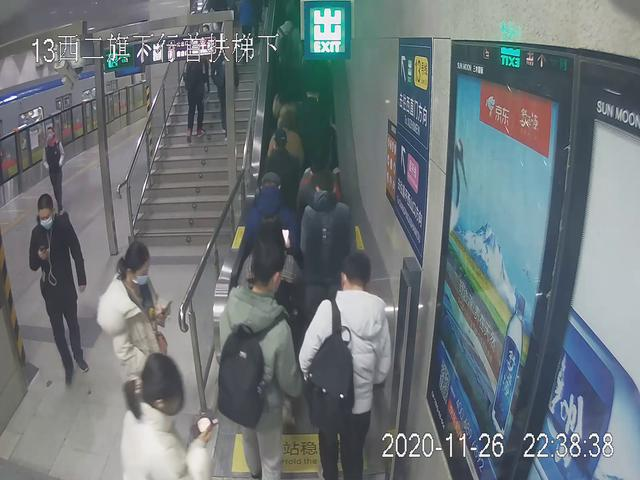person: (298, 245, 397, 480), (214, 235, 306, 480), (98, 244, 190, 426), (22, 188, 99, 390), (297, 167, 360, 312), (176, 27, 209, 144), (210, 38, 245, 135), (43, 125, 71, 215)
